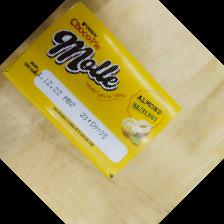Molle: (2, 3, 182, 183)
